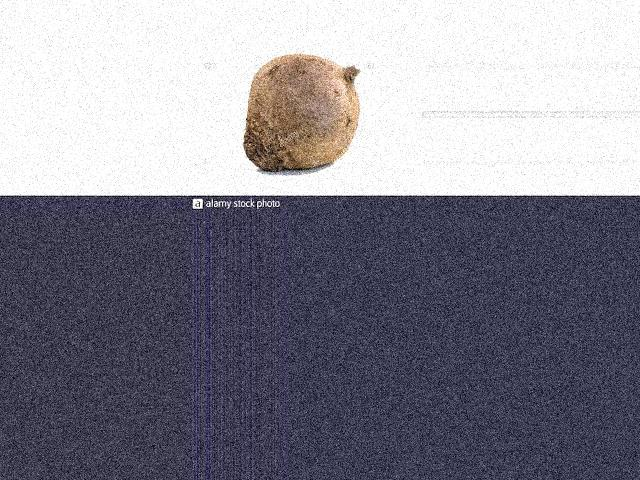beet: (244, 54, 360, 171)
